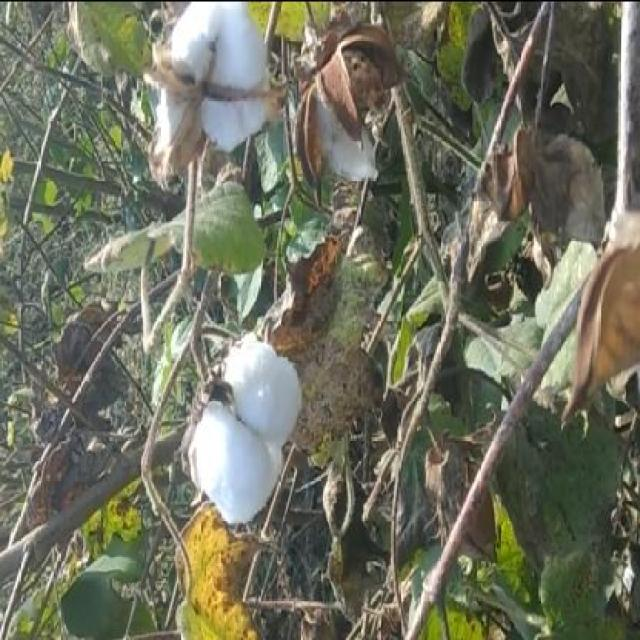cotton_ready: (145, 1, 280, 210), (181, 332, 314, 528)
